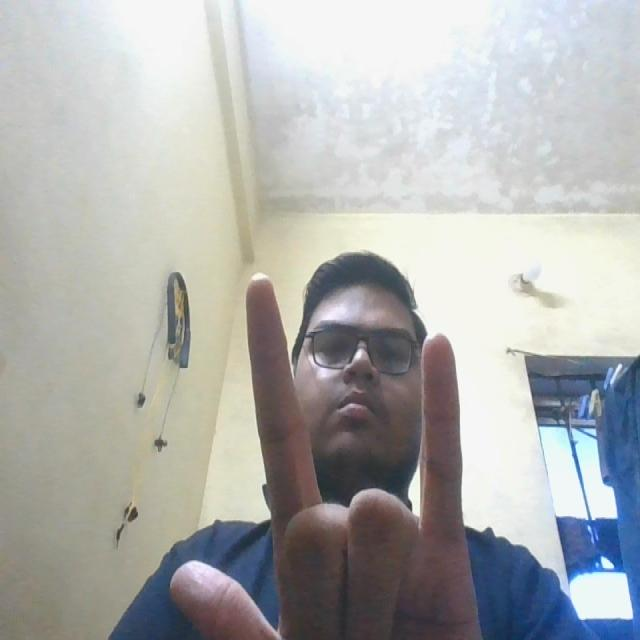iloveyou: (178, 252, 499, 634)
